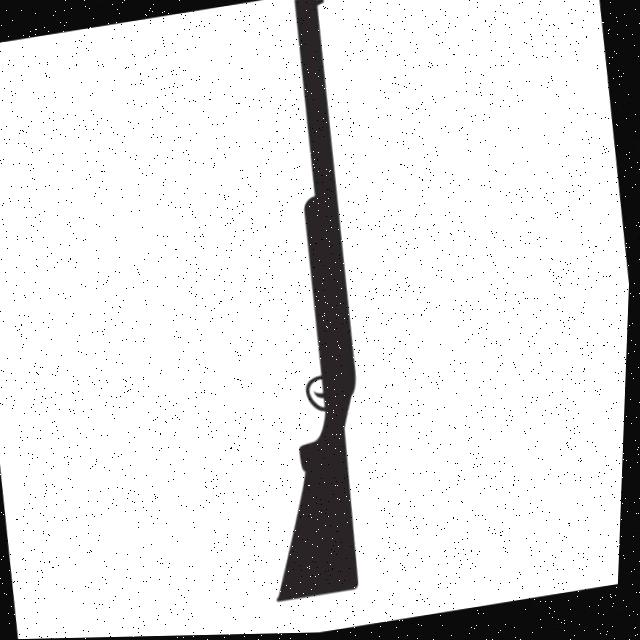firearm: (197, 0, 409, 605)
